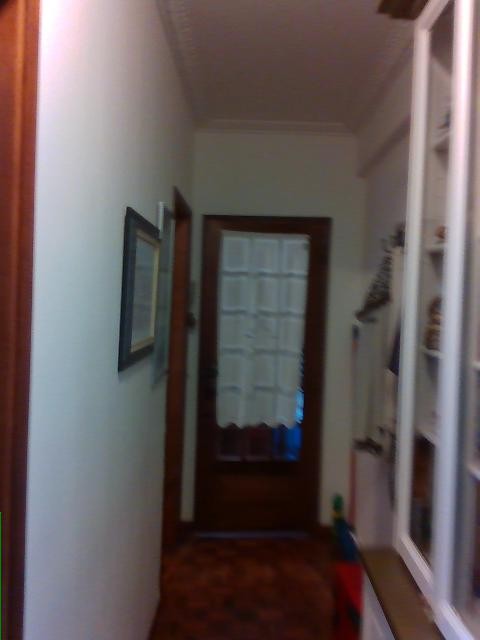door: (190, 214, 330, 527)
